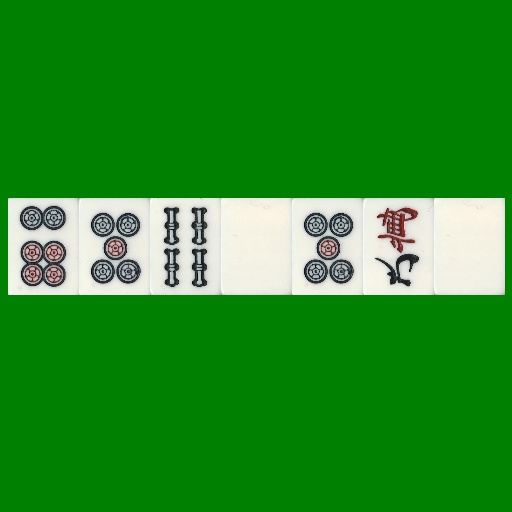4s: (150, 198, 221, 295)
5p: (79, 198, 150, 295), (292, 198, 363, 295)
6p: (8, 198, 79, 295)
9m: (363, 198, 434, 295)
white: (221, 198, 292, 295), (434, 198, 505, 295)
